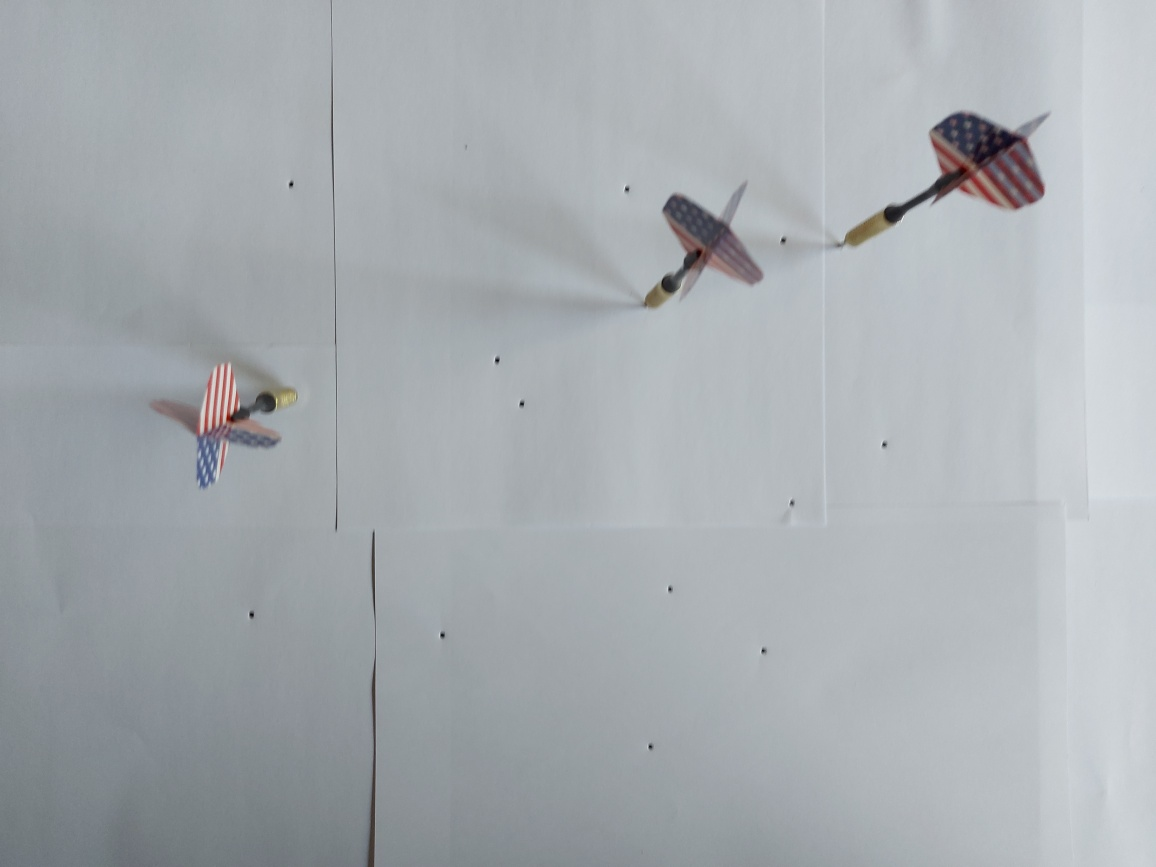Dart: (825, 101, 1053, 266), (139, 348, 316, 499), (635, 171, 772, 320)
